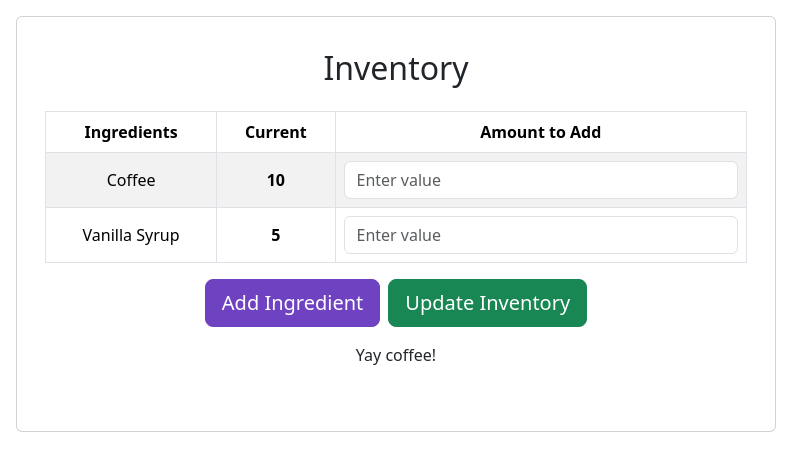
Scenario: InventoryComponent › submits inventory updates successfully
Step 1. Type "4" into the number field with placeholder "Enter value" next to "10" → (541, 180), box [344,161,738,199]
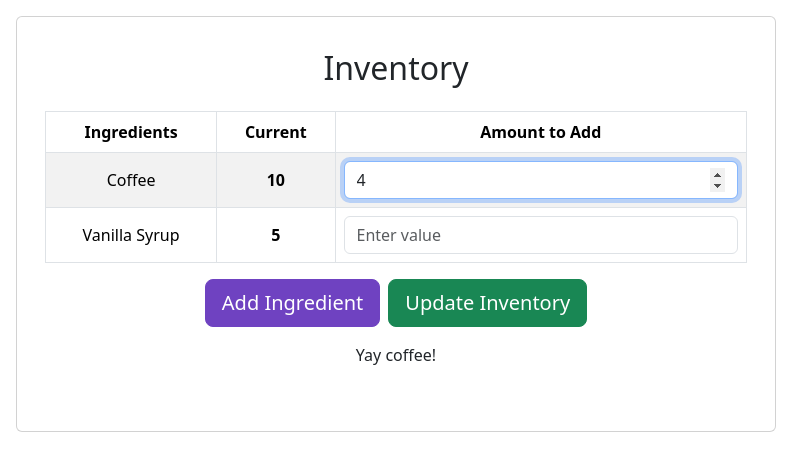
Step 2. Click the button "Update Inventory" → (488, 303), box [388,279,587,327]
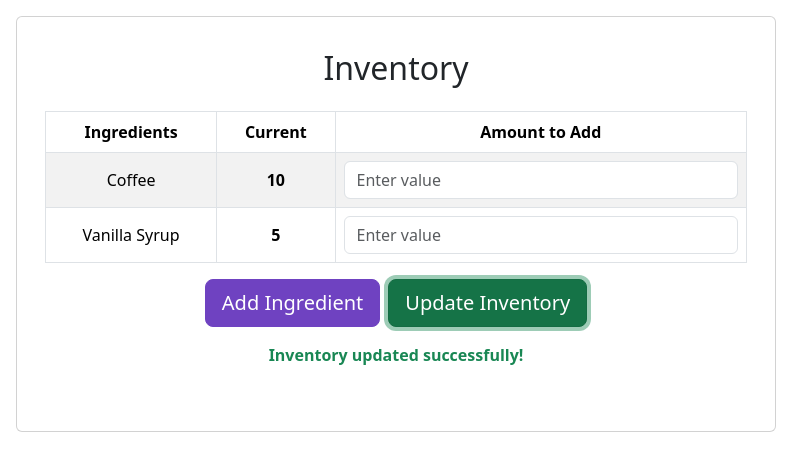
Check: the text "Inventory updated successfully!" is shown, box [269,344,523,366]
